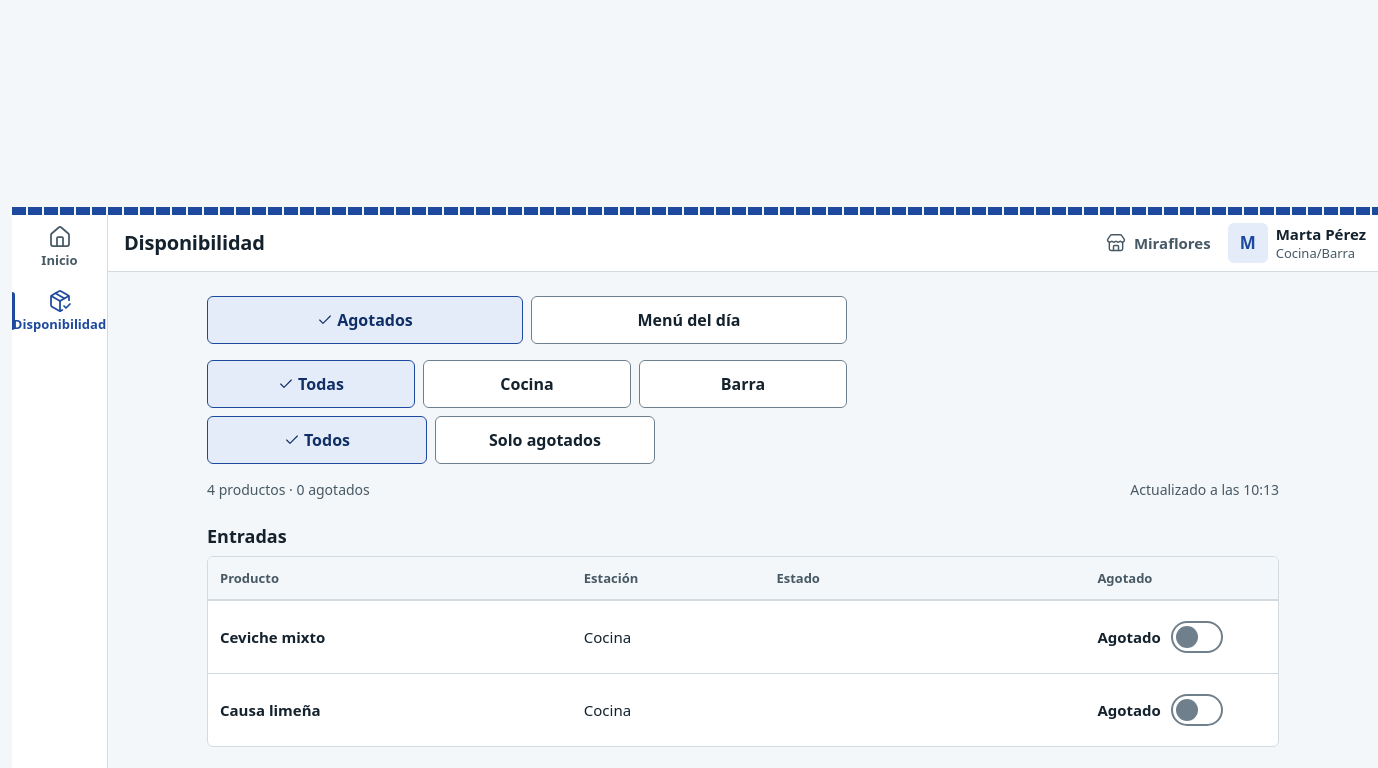
Scenario: Agotados: filtros › con el almacenamiento bloqueado el filtro funciona sin recordarse
(page scrolled)
Expected: the element "Entradas" is shown, [207, 516, 1279, 747]
Click the button "Barra": (743, 384) [639, 360, 847, 408]
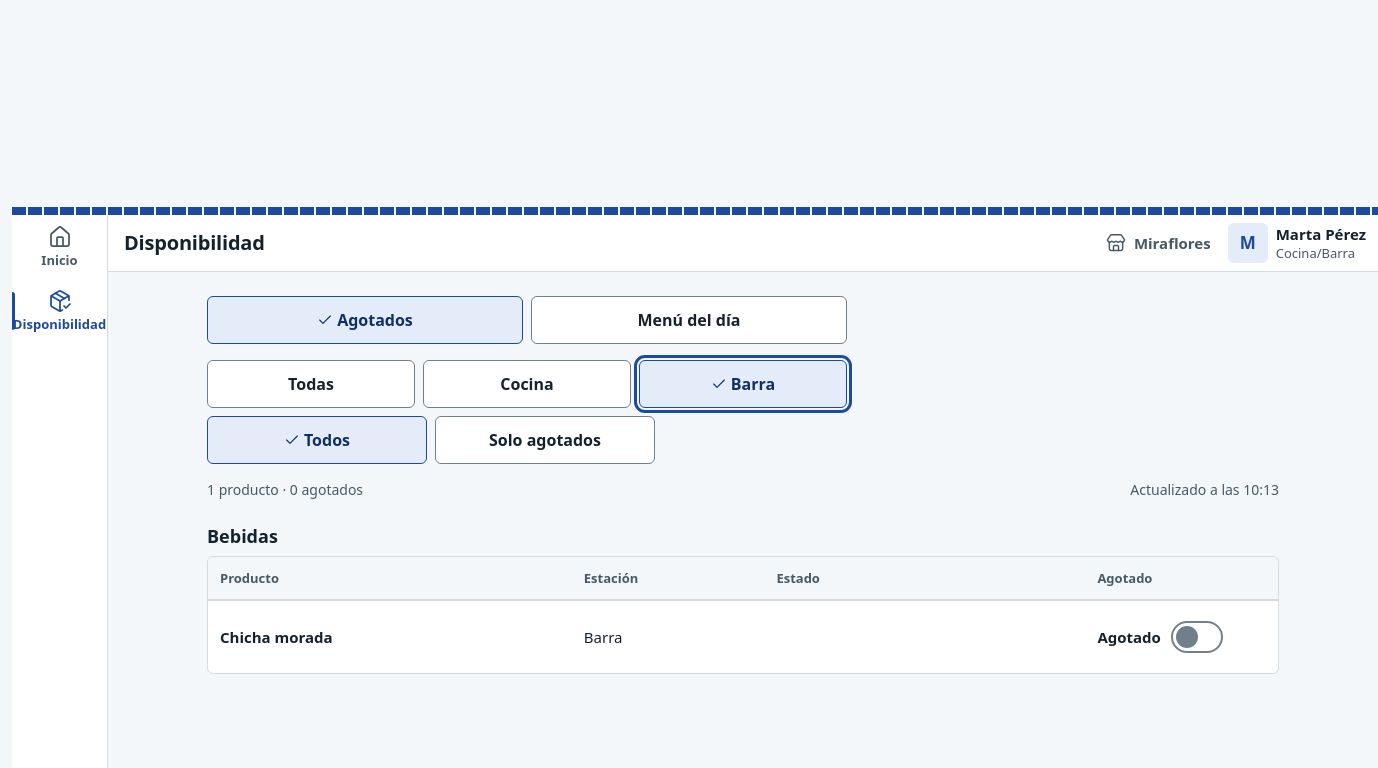
Now the text "Chicha morada" is shown, box [220, 627, 333, 647]
Now the text "Ceviche mixto" is gone
